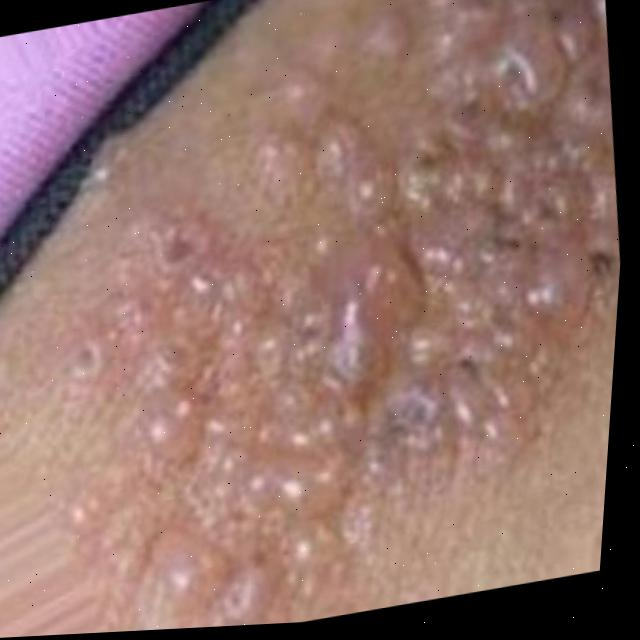Shingles: (40, 0, 639, 627)
